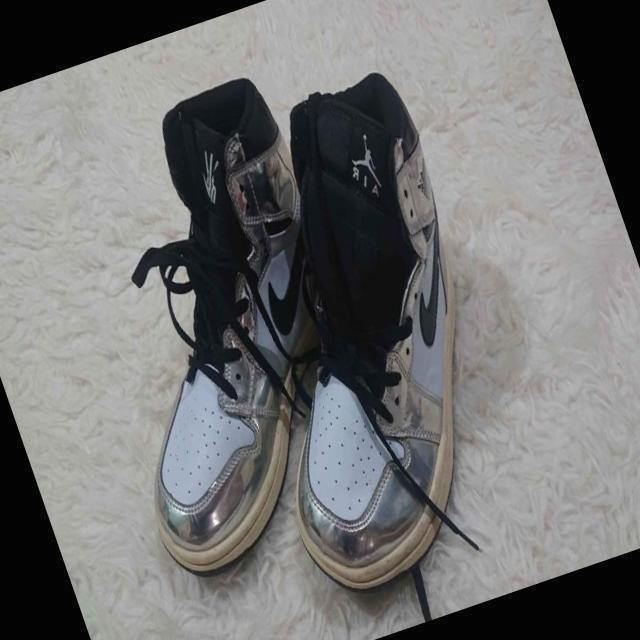nike_fake_jordan: (165, 62, 555, 609), (22, 66, 413, 590)
